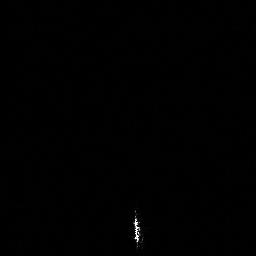ship: (129, 208, 147, 249)
